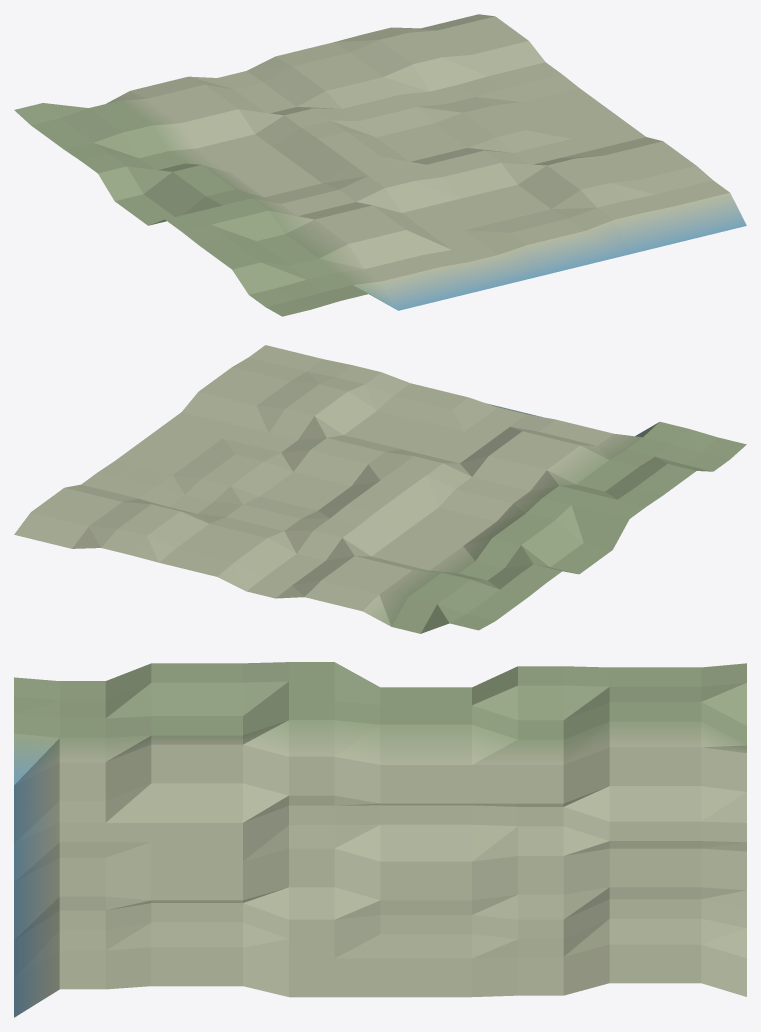
3 views of the same model, one above another, from view 1: azimuth 30°, elevation 25°; view 2: azimuth 150°, elevation 25°; view 3: azimuth 270°, elevation 25° (orthographic). The views are drawn at different scales.
Bounding box in the file's own units: 32 × 2.22 × 32.
